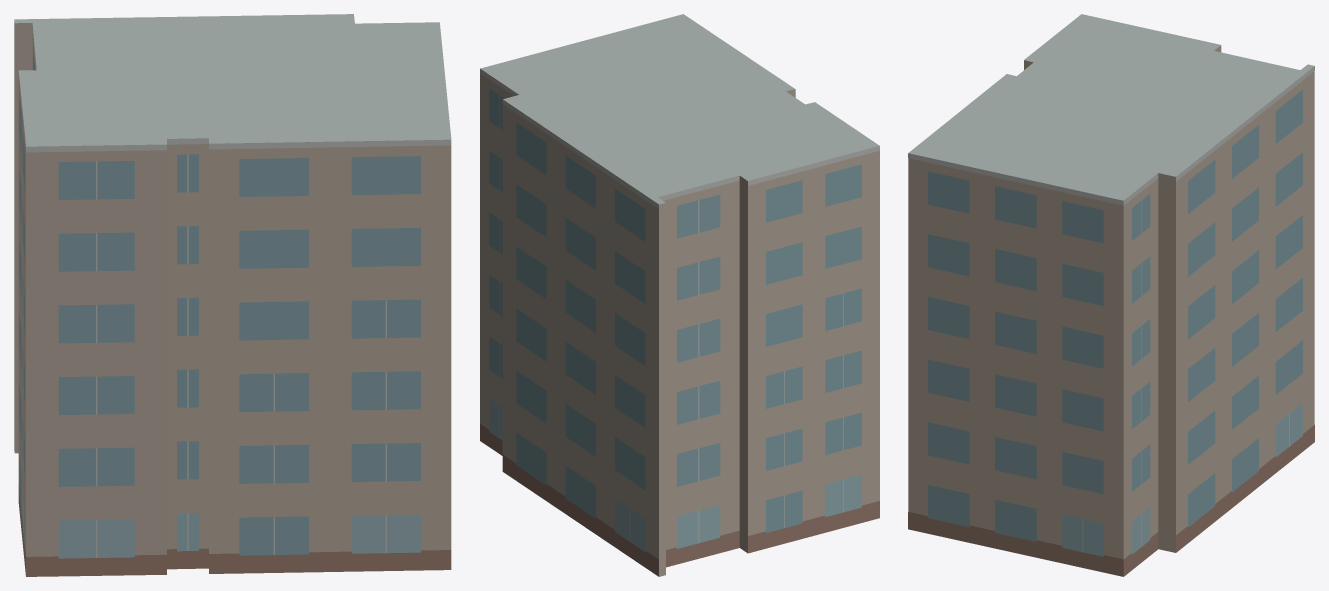
Rendered from survey-upis-32658267.glb.
3 views of the same model, side by side, from view 1: azimuth 30°, elevation 25°; view 2: azimuth 150°, elevation 25°; view 3: azimuth 270°, elevation 25° (orthographic). The views are drawn at different scales.
Visible parts, largest first — view 1: survey-upis-32658267.tmp; view 2: survey-upis-32658267.tmp; view 3: survey-upis-32658267.tmp.
Boxes of the visible parts, x1,y1,x2,y2 form: survey-upis-32658267.tmp: (14,14,451,576); survey-upis-32658267.tmp: (480,14,879,576); survey-upis-32658267.tmp: (908,14,1314,576).
Bounding box in the file's own units: 19.5 × 18.3 × 17.94.
